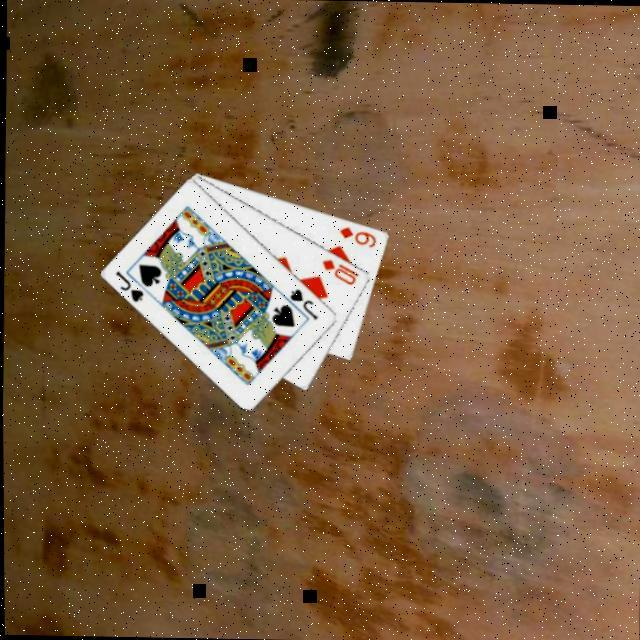10D: (316, 258, 359, 289)
6D: (334, 224, 376, 252)
JS: (284, 286, 319, 324), (109, 268, 144, 306)
